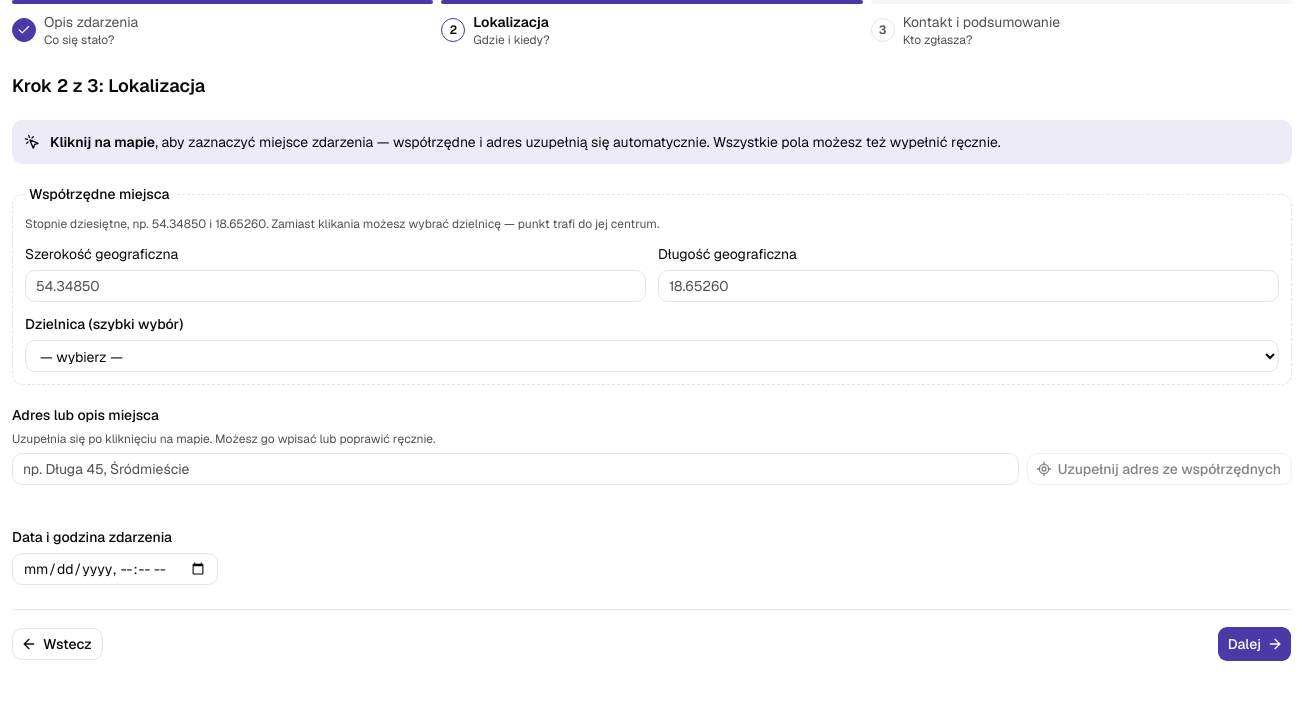
Test: IncidentForm › accepts manually typed coordinates (with a decimal comma) and fills the address on request
Expected: the button "Uzupełnij adres ze współrzędnych" is disabled, [1027,453,1292,485]
Step 1. Type "54,3485" into the field labelled "Szerokość geograficzna" → (336, 286), box [25,270,646,302]
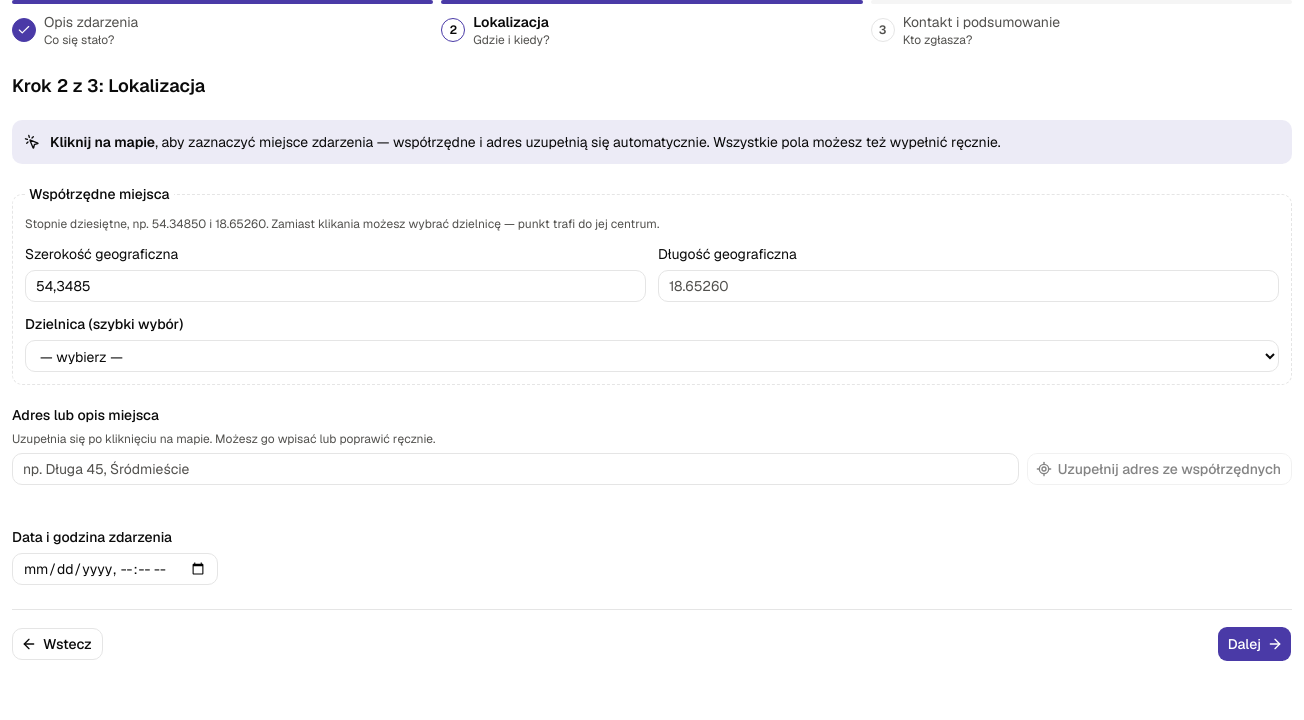
Step 2. Type "18.6526" into the field labelled "Długość geograficzna" → (968, 286), box [658,270,1279,302]
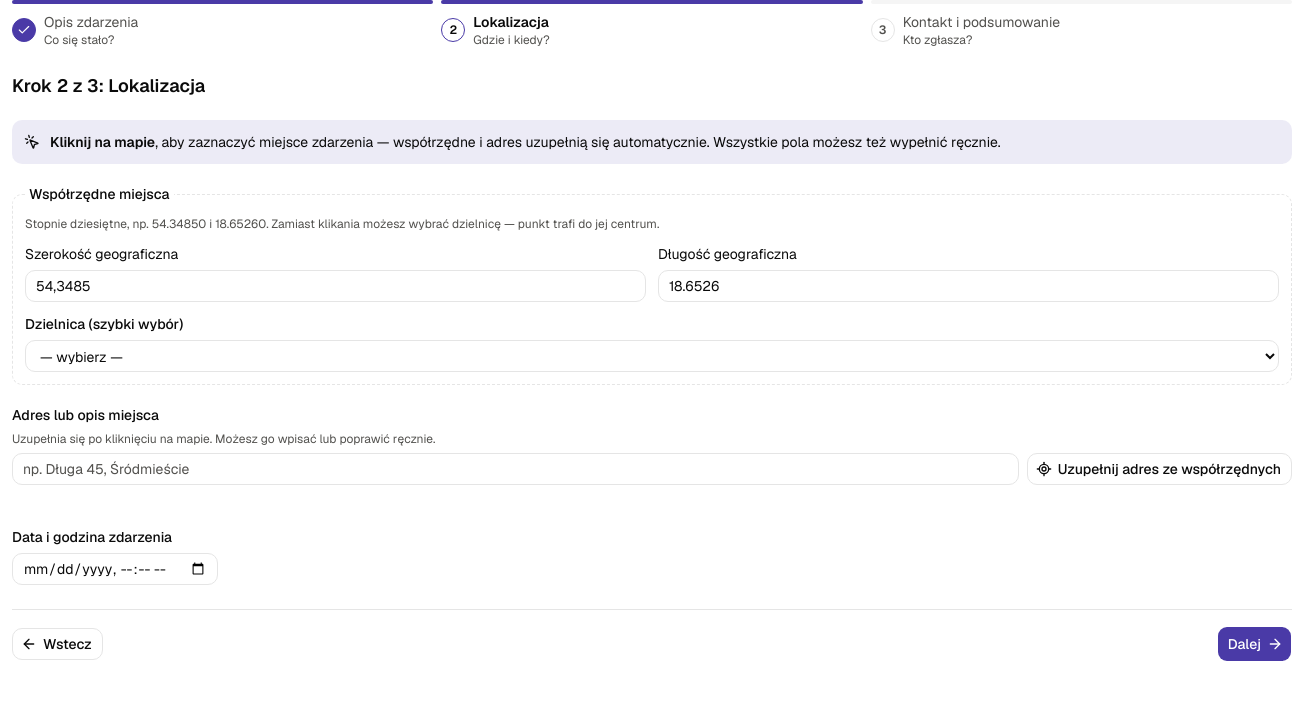
Step 3. Click the button "Uzupełnij adres ze współrzędnych" → (1159, 469), box [1027,453,1292,485]
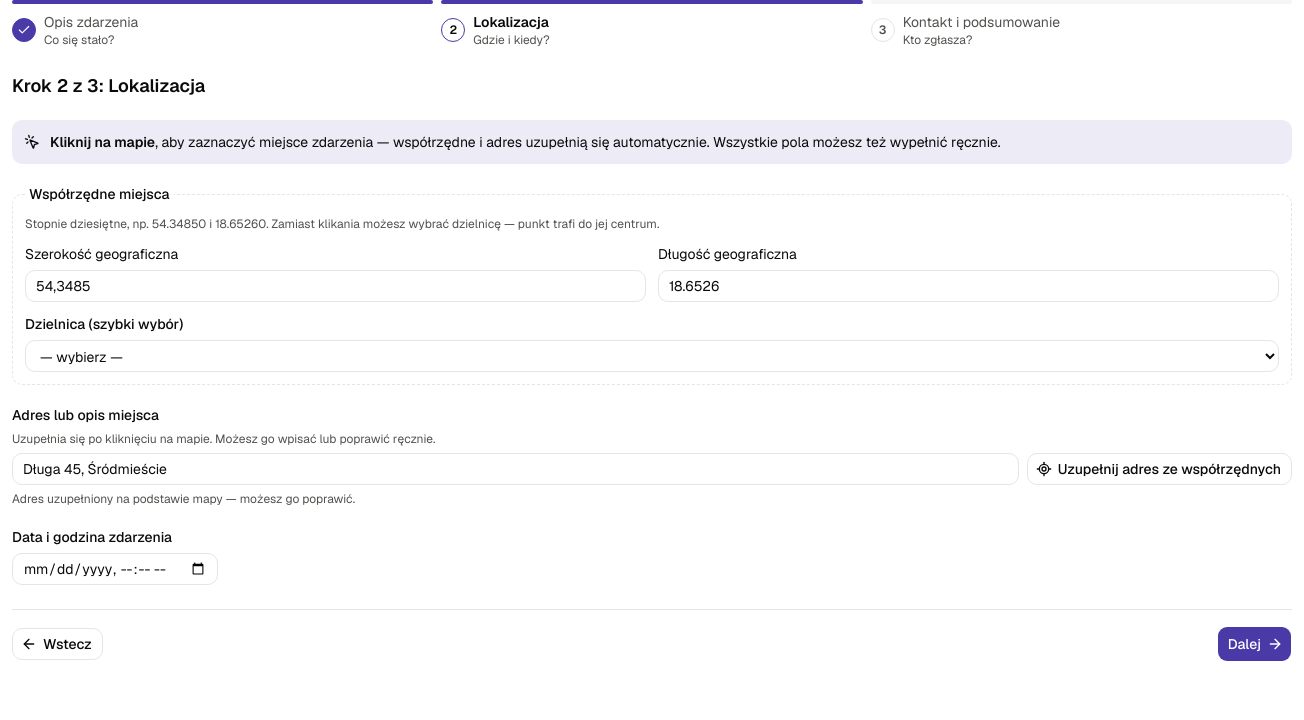
Expected: the field showing "Długa 45, Śródmieście" is shown, [12,453,1019,485]
Expected: the message shows "uzupełniony na podstawie mapy", [12,491,355,507]
